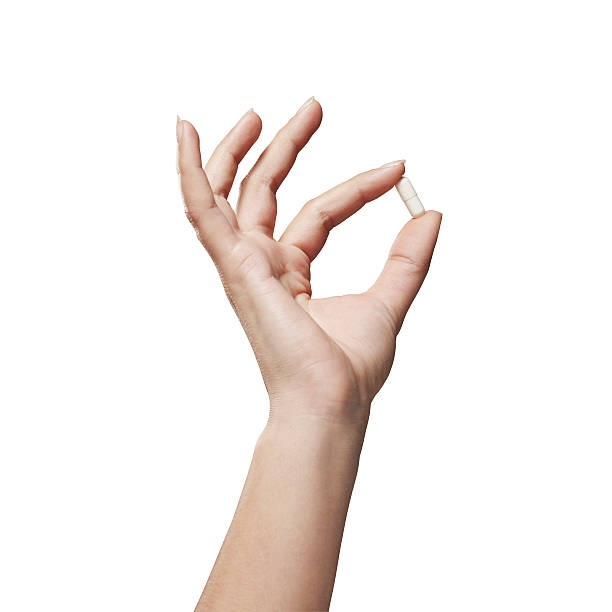pills: (390, 179, 433, 225)
